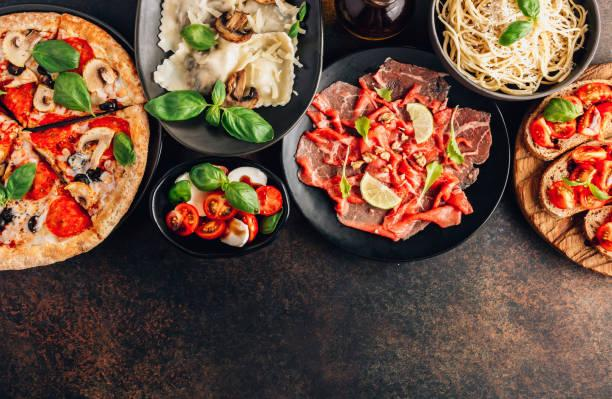Braised Crucian Carp: (282, 44, 506, 262), (4, 2, 158, 269), (136, 1, 317, 156), (513, 61, 610, 280), (431, 1, 596, 102), (149, 155, 289, 258)
